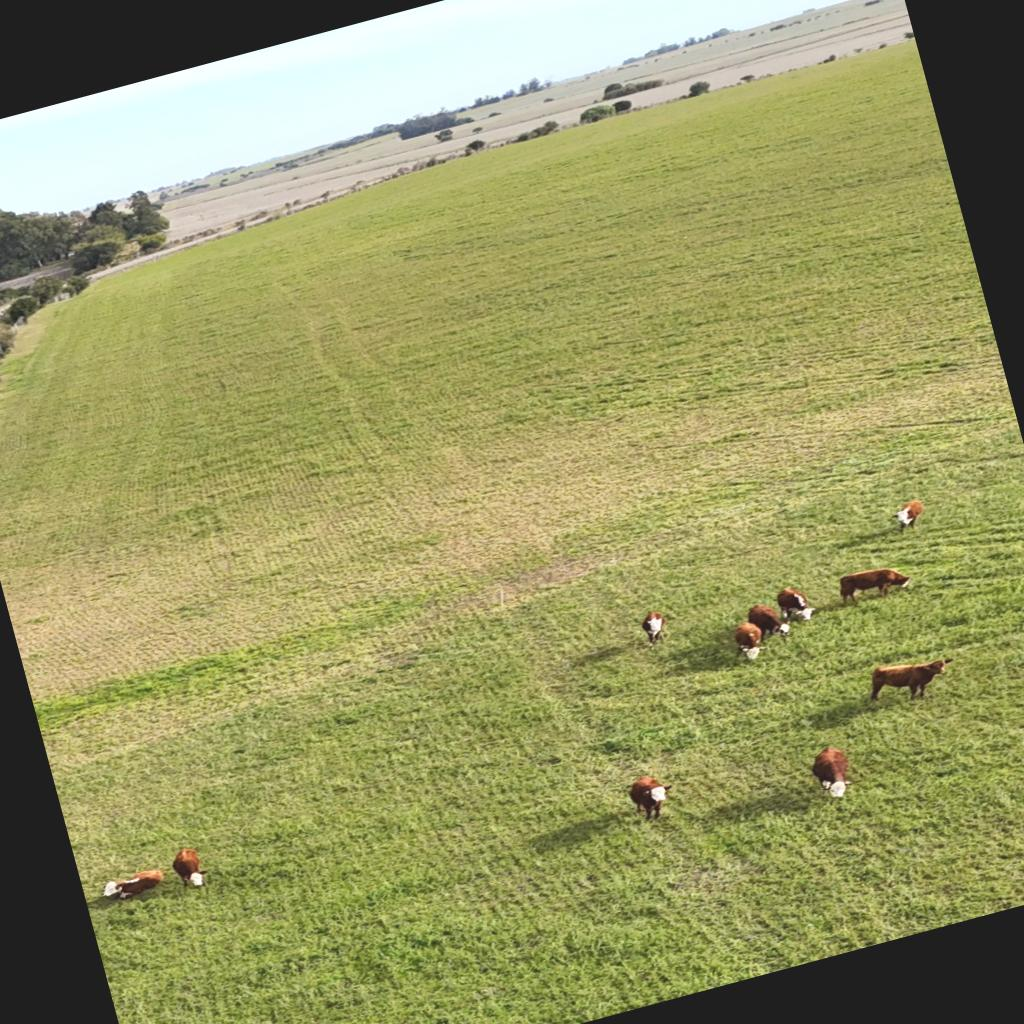cow: (863, 648, 961, 712), (836, 559, 916, 608), (807, 742, 859, 802), (626, 771, 678, 824), (110, 866, 168, 902), (746, 599, 790, 646), (774, 582, 818, 628), (170, 844, 209, 892), (888, 498, 928, 534), (637, 608, 671, 648)
